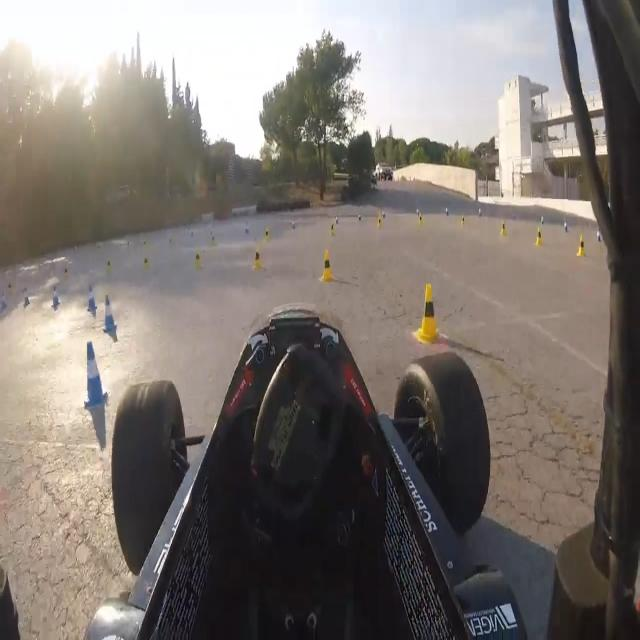blue_cone: (85, 339, 108, 409), (103, 294, 116, 336), (51, 282, 60, 310), (87, 279, 94, 314), (23, 286, 30, 312), (0, 288, 7, 312), (596, 222, 602, 243), (563, 217, 568, 236), (540, 213, 545, 229)
yellow_cone: (414, 282, 442, 346), (320, 248, 335, 283), (254, 241, 264, 273), (576, 232, 586, 258), (194, 245, 202, 271), (142, 249, 150, 272), (535, 225, 543, 247), (106, 252, 112, 278), (64, 262, 70, 282), (264, 226, 270, 244), (377, 210, 382, 230), (501, 219, 506, 238), (418, 212, 423, 228), (330, 220, 335, 235), (460, 215, 465, 228)
